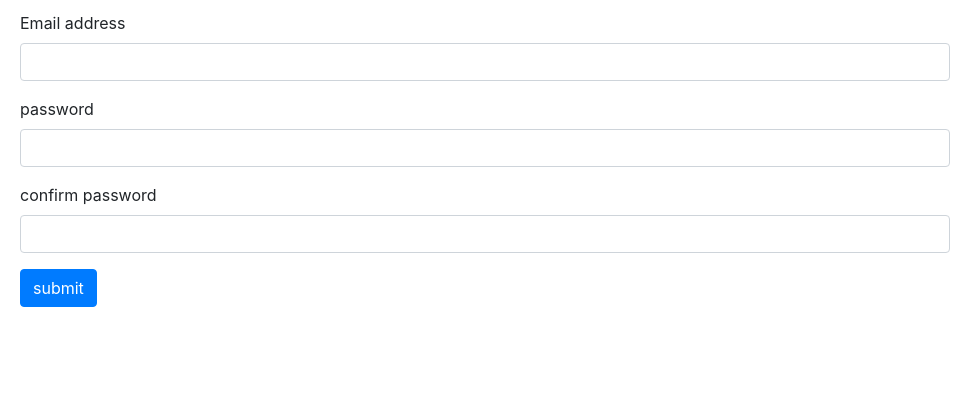
Test case: App › error handling › should show password error message on invalid password
Type "manish@gmail.com" into the field labelled "Email address" at (485, 62), box x1=20 y1=43 x2=950 y2=81
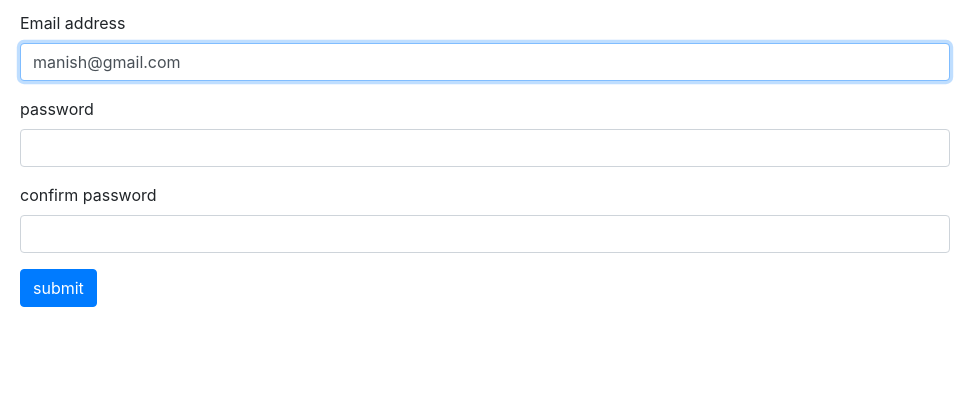
Expected: the text "the password you input is invalid" is not shown
Type "123" into the password field labelled "password" at (485, 148), box x1=20 y1=129 x2=950 y2=167
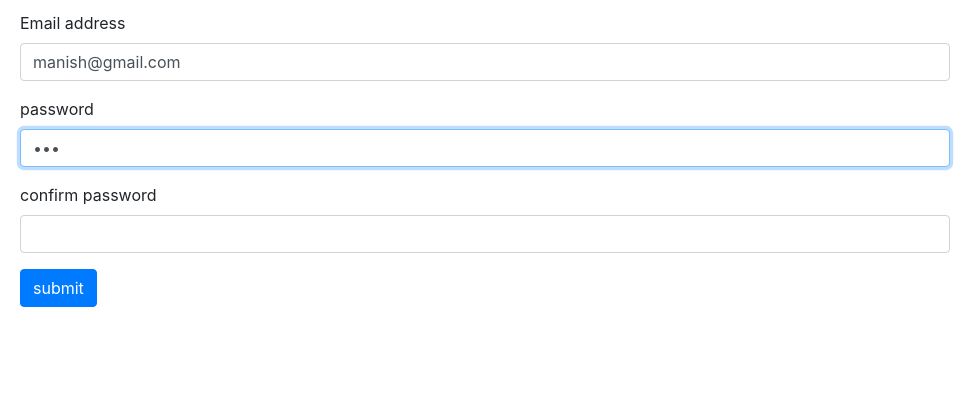
Click the button "submit" at (58, 288), box x1=20 y1=269 x2=97 y2=307
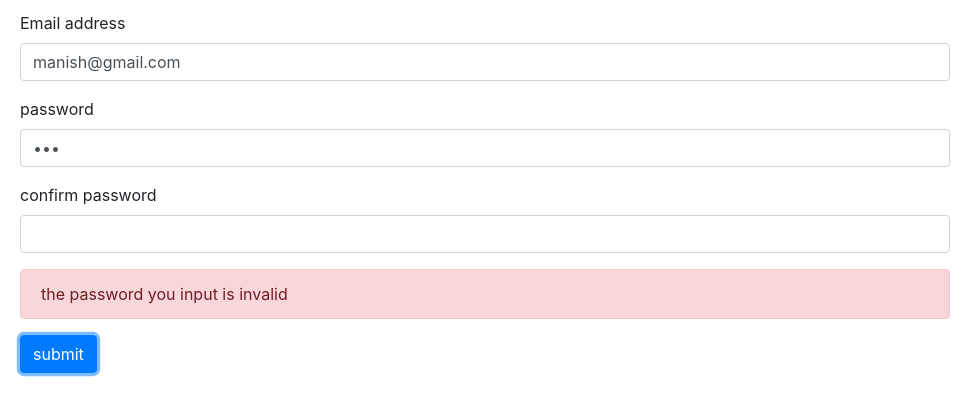
Result: the text "the password you input is invalid" is shown at x1=20 y1=269 x2=950 y2=319
